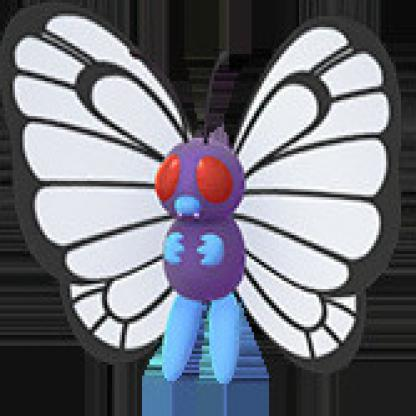Butterfree: (5, 1, 384, 386)
